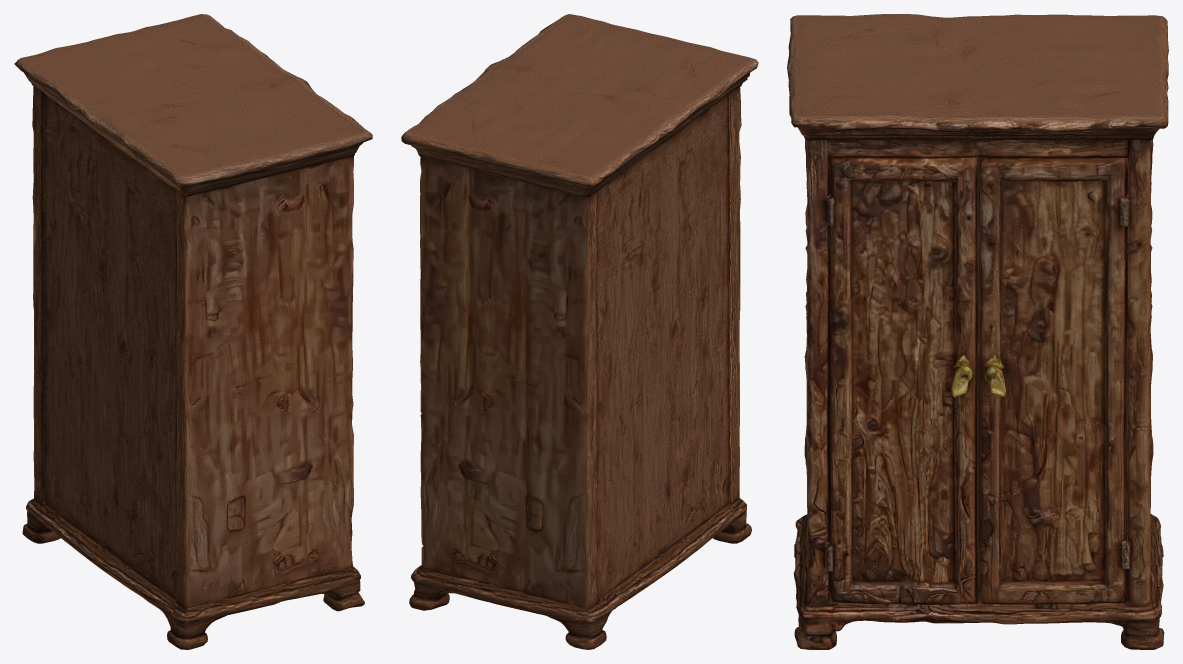
3 views of the same model, side by side, from view 1: azimuth 30°, elevation 25°; view 2: azimuth 150°, elevation 25°; view 3: azimuth 270°, elevation 25° (orthographic). The views are drawn at different scales.
Parts seen in each view (by area): view 1: tripo_node_fe57b2bc-d874-46ed-838d-e280ca26dbc8; view 2: tripo_node_fe57b2bc-d874-46ed-838d-e280ca26dbc8; view 3: tripo_node_fe57b2bc-d874-46ed-838d-e280ca26dbc8.
Part boxes in pixels (x1,y1,x2,y2): tripo_node_fe57b2bc-d874-46ed-838d-e280ca26dbc8: [14, 14, 372, 649]; tripo_node_fe57b2bc-d874-46ed-838d-e280ca26dbc8: [401, 14, 758, 649]; tripo_node_fe57b2bc-d874-46ed-838d-e280ca26dbc8: [787, 14, 1168, 649].
Bounding box in the file's own units: 0.4475 × 1 × 0.6471.
1 material, 1 textured.
